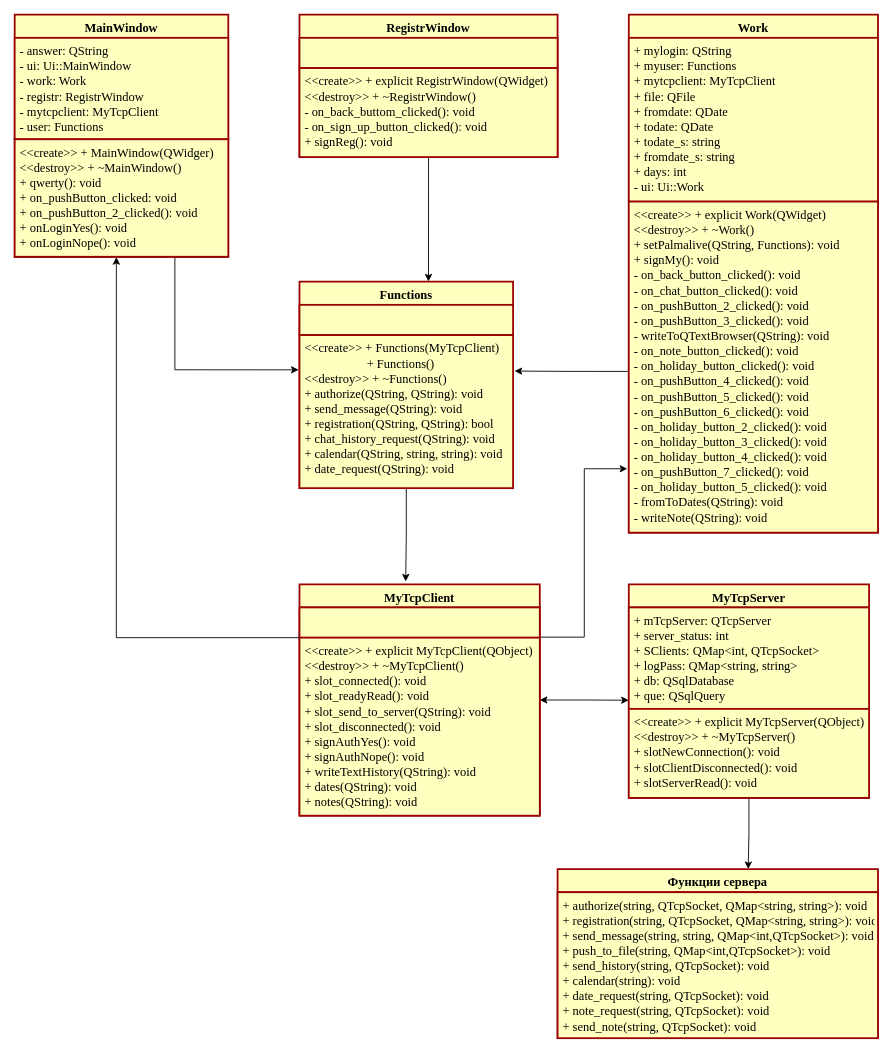
The diagram is 893 pixels wide and 1053 high, and some of its shapes have lost their labels. The centre of each missing label's shape, as x and y in pixels:
+ clientAuth: MyTcpClient: the point at 406,319
- client_socket: QTcpSocket: the point at 419,622
- ui: Ui::RegistrWindow: the point at 428,52
